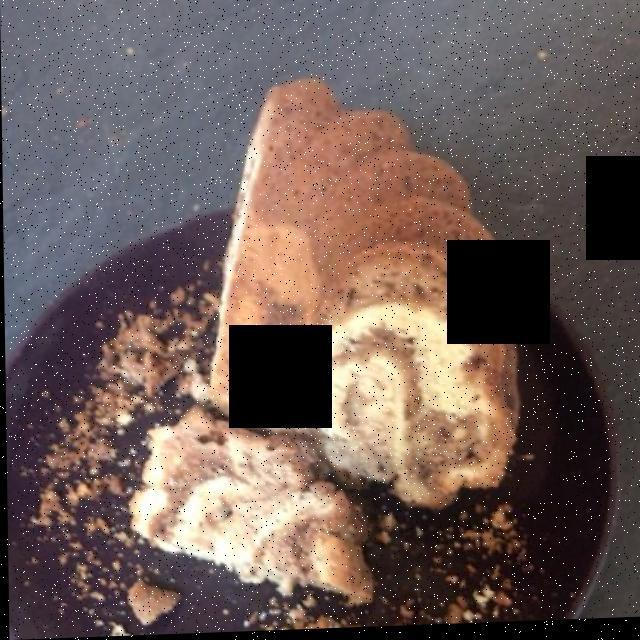cake: (122, 80, 526, 602)
